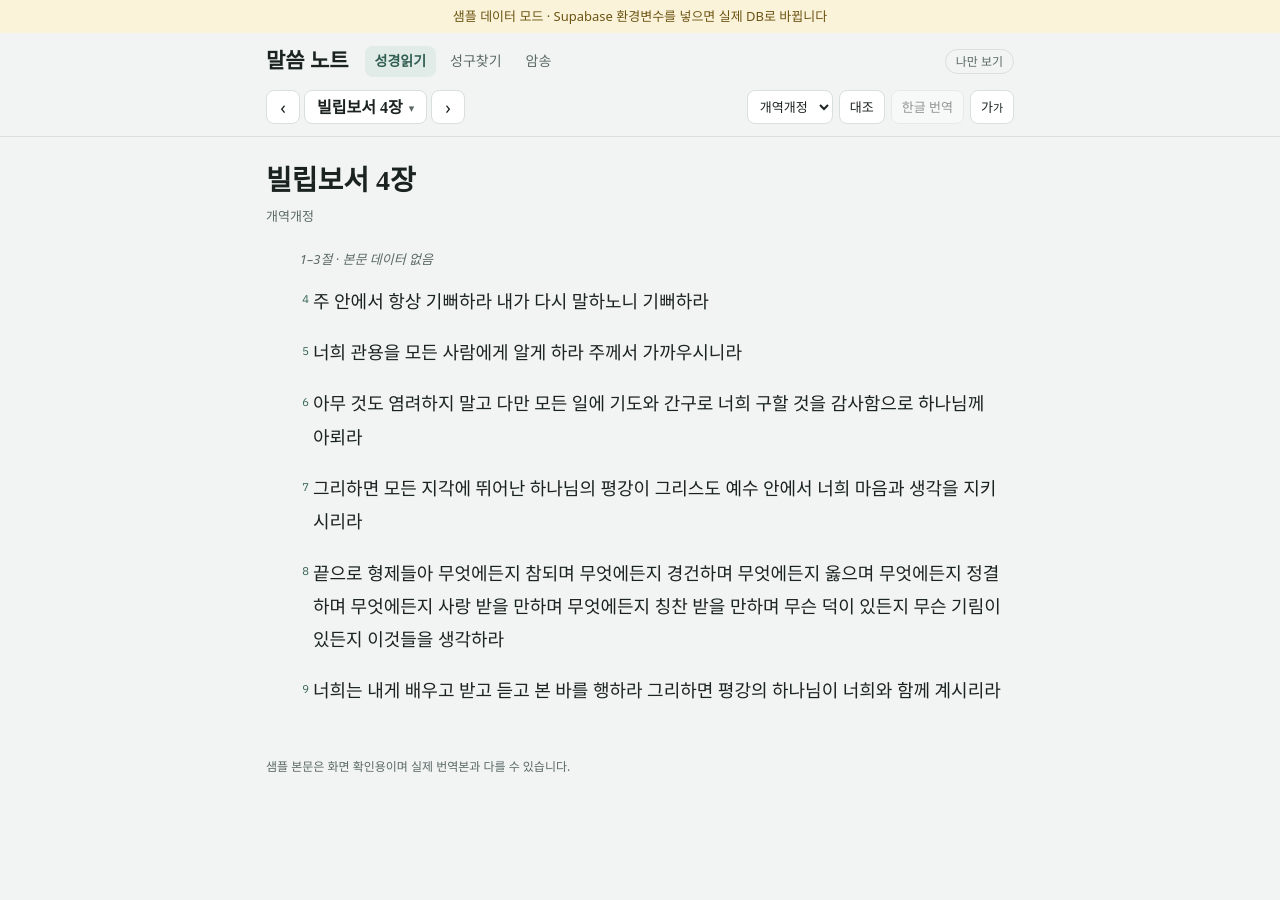
Test case: app (sample mode) › falls back to keyword search for unknown phrases
Expected: the heading "빌립보서 4장" is shown, [266,165,416,196]
Click the tab "성구찾기": (476, 62) [440,46,512,77]
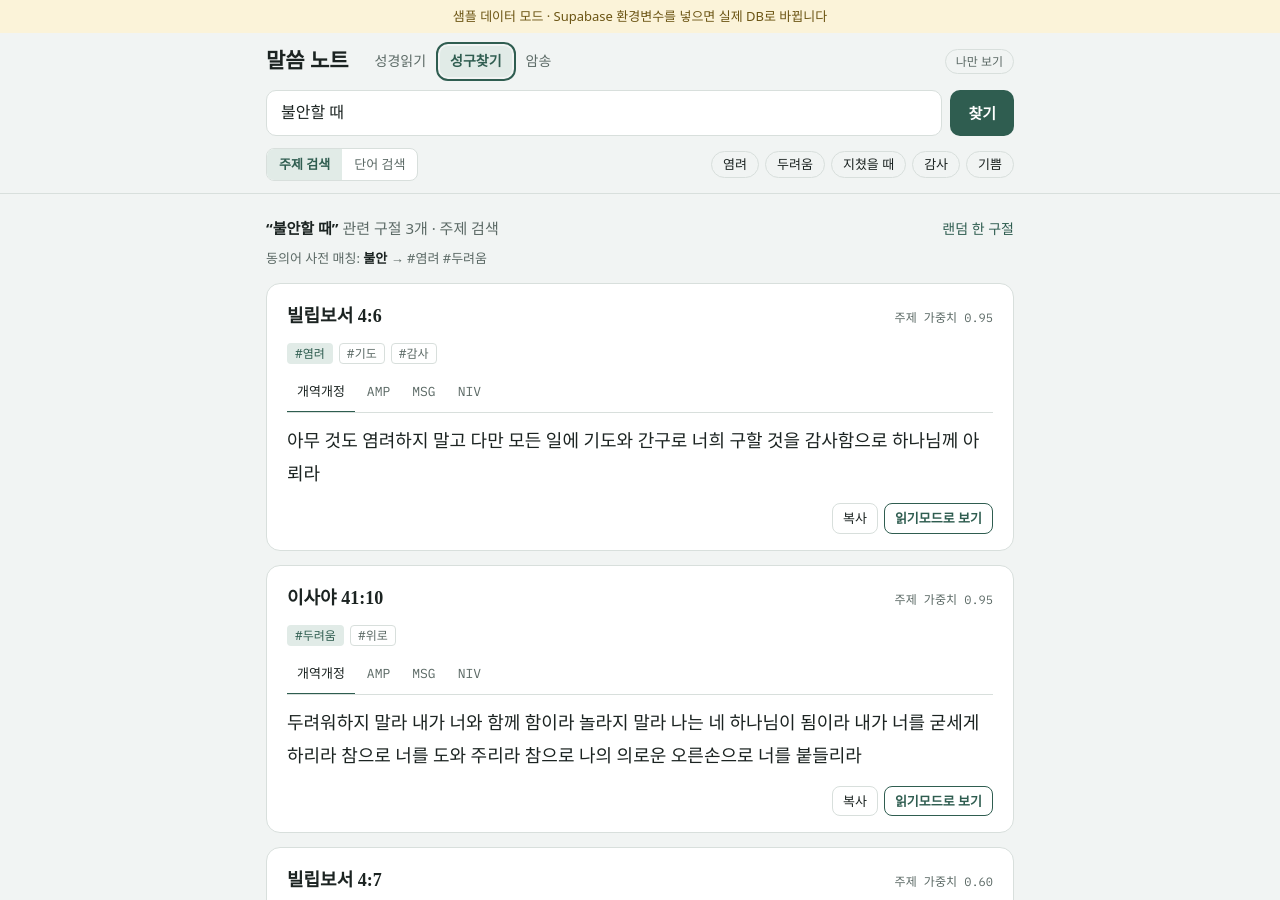
Replace the text in the search field named "검색어" with "멍에": (604, 113) [266,90,942,136]
Then press Enter
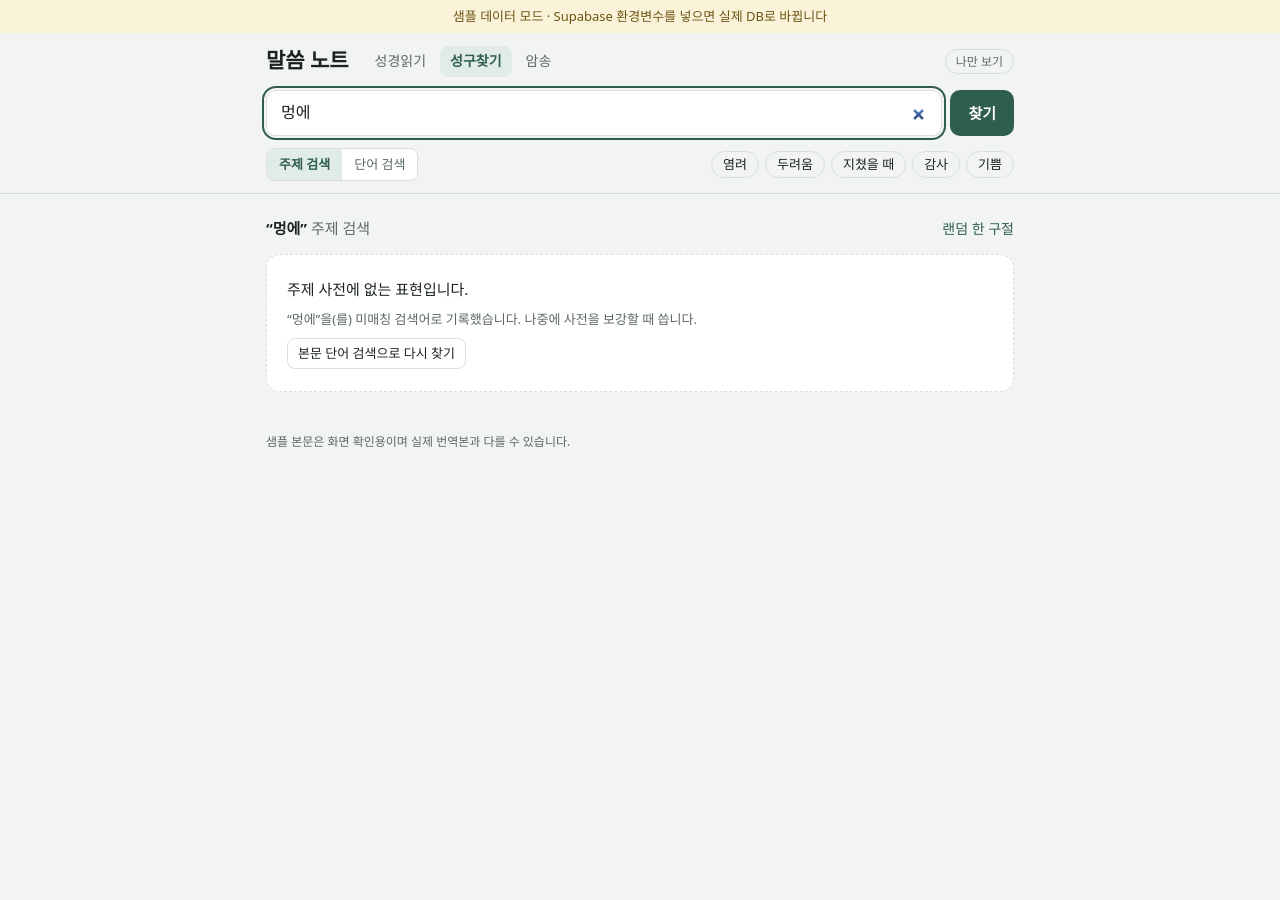
Expected: the text "주제 사전에 없는 표현입니다." is shown, [287,277,468,301]
Click the button "본문 단어 검색으로 다시 찾기": (376, 353) [287,338,466,369]
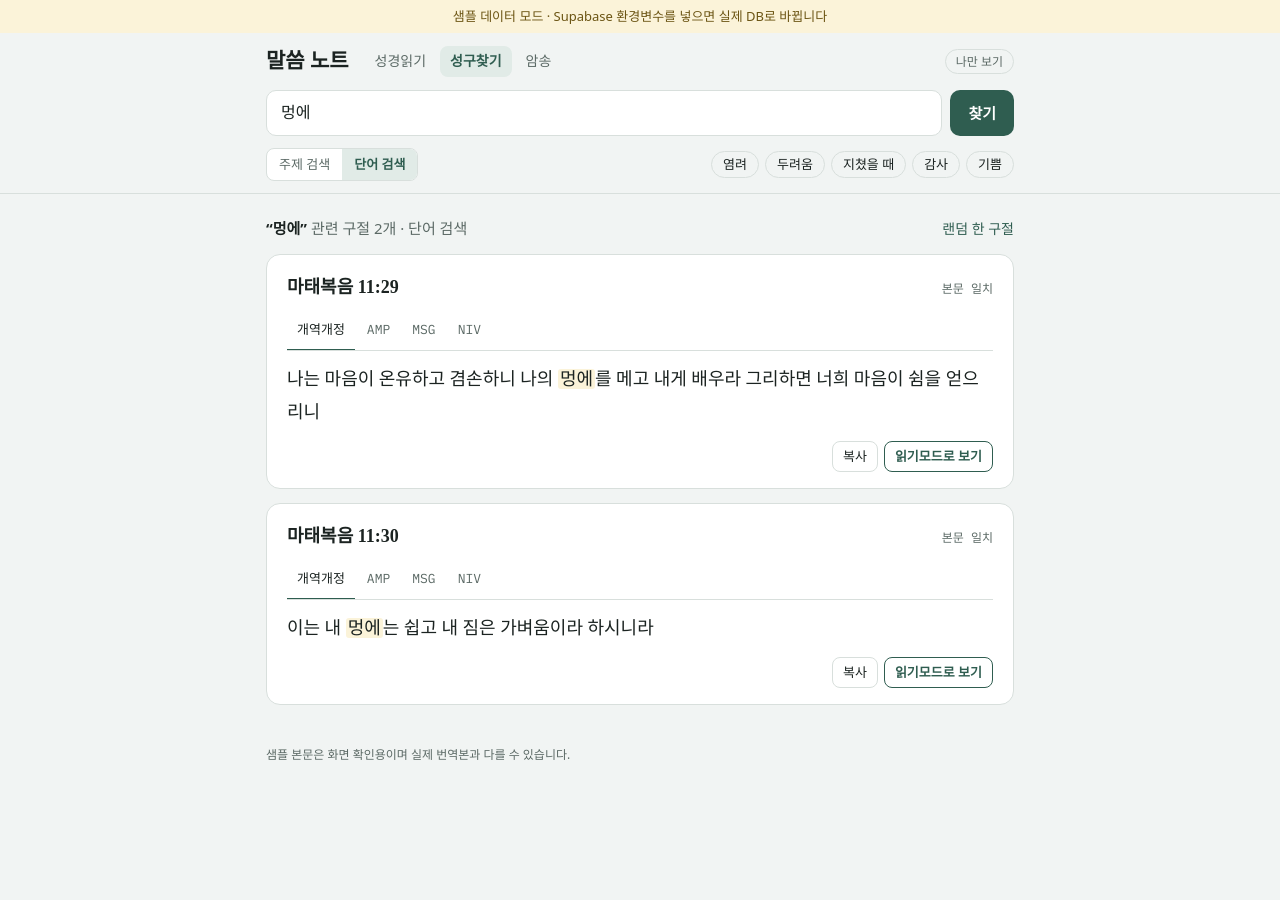
Expected: the text "멍에" next to "나는 마음이 온유하고 겸손하니 나의" is shown, [560,369,593,389]
